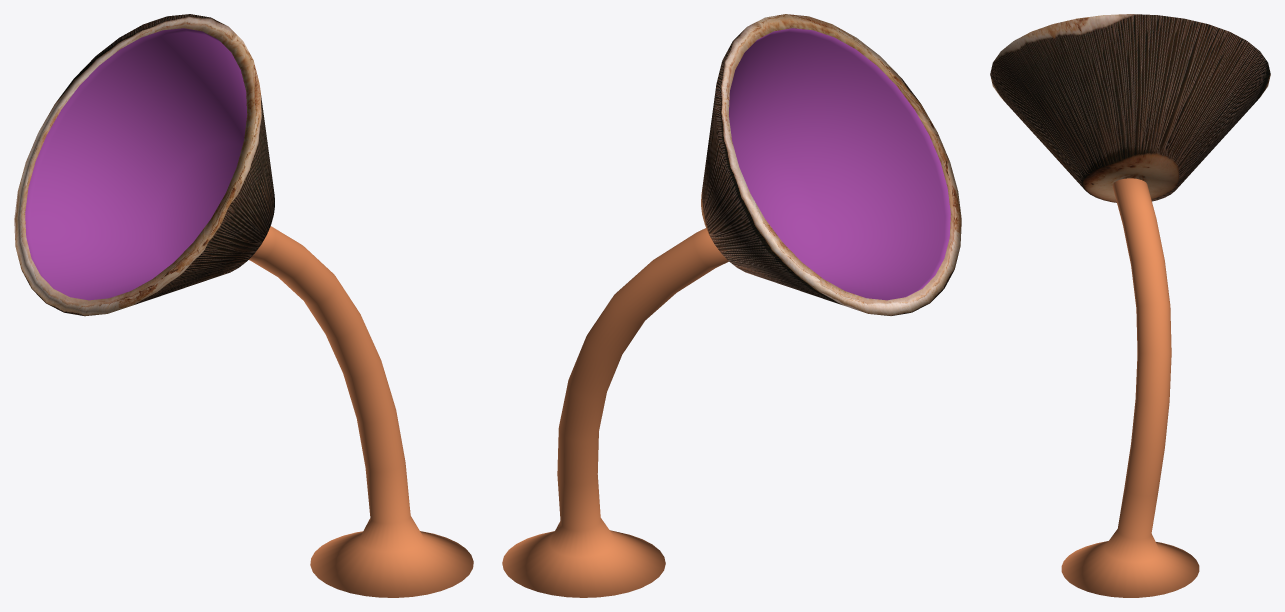
The model's file is champignon001.fbx.
3 renders of one model, left to right at view 1: azimuth 30°, elevation 25°; view 2: azimuth 150°, elevation 25°; view 3: azimuth 270°, elevation 25°, orthographic. The views are drawn at different scales.
Visible parts, largest first — view 1: Cylinder_001; view 2: Cylinder_001; view 3: Cylinder_001.
Boxes of the visible parts, bbox=[...] form: Cylinder_001: bbox=[14, 14, 473, 597]; Cylinder_001: bbox=[502, 14, 961, 597]; Cylinder_001: bbox=[990, 14, 1270, 597].
Bounding box in the file's own units: 118 × 155 × 81.12.
